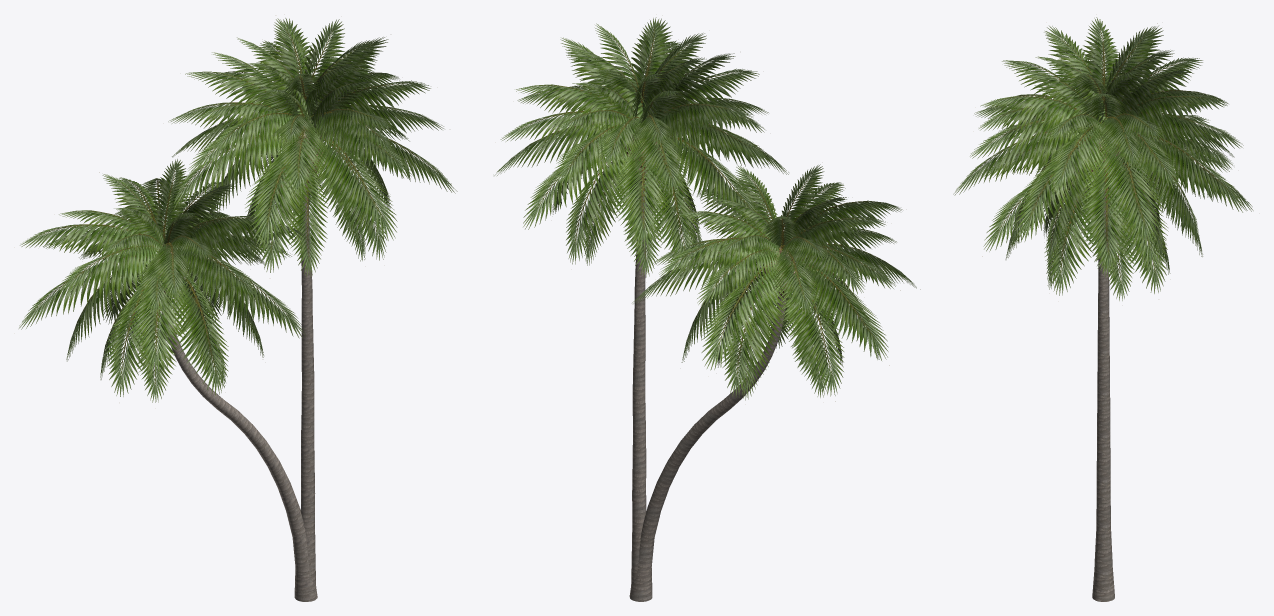
The model's file is palms_v4.glb.
The picture shows the model from 3 angles, left to right: view 1: azimuth 30°, elevation 25°; view 2: azimuth 150°, elevation 25°; view 3: azimuth 270°, elevation 25°; orthographic projection.
Parts seen in each view (by area): view 1: PALM_CRAFTED_TALL, PALM_CRAFTED_CURVED; view 2: PALM_CRAFTED_TALL, PALM_CRAFTED_CURVED; view 3: PALM_CRAFTED_TALL, PALM_CRAFTED_CURVED.
Boxes of the visible parts, x1,y1,x2,y2 form: PALM_CRAFTED_TALL: [166, 18, 457, 586]; PALM_CRAFTED_CURVED: [19, 159, 317, 601]; PALM_CRAFTED_TALL: [494, 17, 788, 586]; PALM_CRAFTED_CURVED: [629, 164, 920, 601]; PALM_CRAFTED_TALL: [953, 17, 1245, 591]; PALM_CRAFTED_CURVED: [974, 60, 1253, 601].
Size of the model in its own units: 11.12 by 14.78 by 7.55.
Materials: 6 (6 with a texture image).
